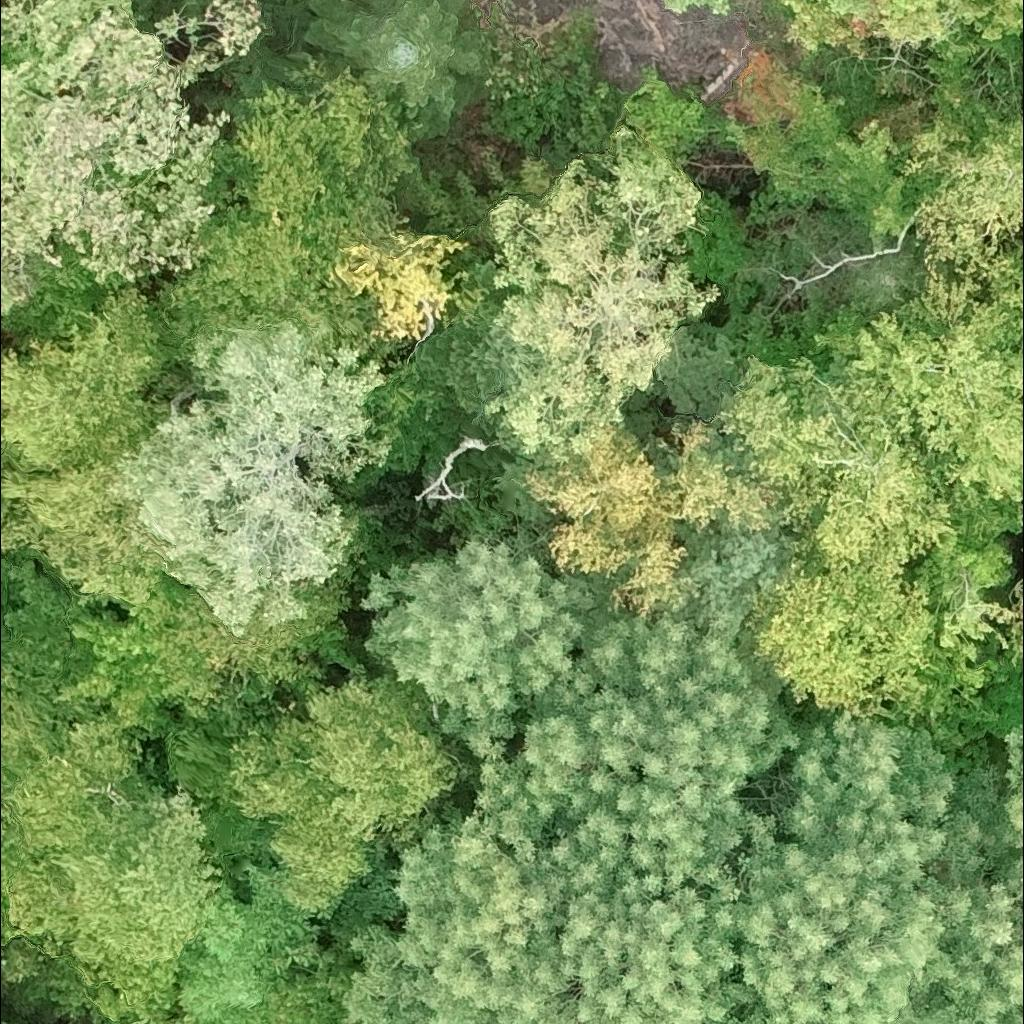crown: (338, 750, 763, 1023), (721, 708, 1023, 1023), (107, 317, 392, 639), (481, 124, 719, 463), (159, 64, 417, 371), (56, 499, 380, 742), (523, 614, 797, 890), (0, 0, 262, 287), (359, 498, 641, 760), (227, 665, 467, 914), (0, 781, 229, 1023), (715, 354, 957, 575), (516, 420, 773, 626), (820, 266, 1023, 494), (725, 53, 940, 231), (0, 281, 172, 474), (745, 560, 934, 725), (0, 642, 145, 851), (301, 0, 493, 141), (0, 460, 168, 614), (912, 64, 1023, 278), (623, 80, 721, 166), (0, 214, 40, 317), (979, 227, 1023, 319), (1001, 713, 1023, 844), (668, 0, 739, 14), (0, 1018, 8, 1023)
